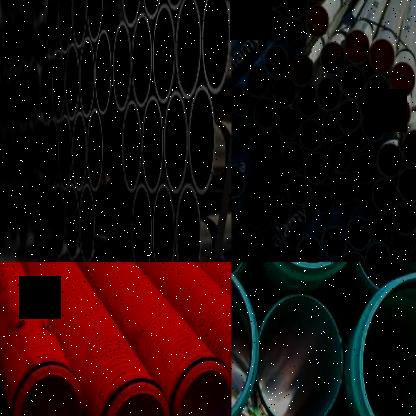pipe: (258, 292, 342, 416), (358, 272, 416, 416), (13, 367, 83, 416), (174, 363, 232, 416), (188, 84, 215, 194), (174, 0, 201, 99), (201, 0, 229, 94), (164, 90, 188, 193), (152, 2, 175, 103), (102, 383, 169, 416), (175, 182, 201, 262), (142, 96, 163, 193), (131, 12, 152, 108), (121, 99, 142, 194), (112, 20, 131, 113), (152, 183, 174, 262), (130, 183, 152, 262), (95, 29, 111, 115), (87, 108, 103, 191), (78, 184, 94, 262), (79, 36, 94, 118), (72, 111, 87, 191), (65, 43, 79, 121), (65, 184, 79, 261), (51, 48, 65, 123), (58, 114, 71, 191), (376, 143, 404, 178), (389, 62, 416, 98), (369, 39, 396, 74), (344, 30, 370, 65), (346, 216, 372, 251), (52, 184, 64, 259), (384, 97, 411, 130), (320, 42, 346, 76), (361, 108, 387, 142), (321, 226, 347, 260), (242, 195, 268, 229), (304, 4, 330, 38), (316, 77, 341, 112), (46, 119, 58, 191), (365, 76, 391, 109), (372, 179, 398, 212), (341, 66, 366, 100), (336, 99, 361, 133), (260, 9, 285, 42), (266, 196, 291, 229), (40, 58, 52, 126), (392, 201, 416, 235), (289, 54, 314, 86), (253, 97, 278, 129), (299, 119, 324, 151), (327, 142, 352, 174), (280, 142, 305, 174), (304, 152, 329, 184), (284, 19, 307, 53), (287, 174, 312, 205), (296, 85, 320, 117), (236, 117, 260, 149), (265, 45, 288, 78), (246, 66, 270, 97), (277, 108, 301, 139), (354, 154, 378, 185), (311, 183, 335, 214), (259, 128, 282, 160), (71, 0, 86, 49), (390, 225, 416, 253), (273, 77, 297, 107), (334, 174, 358, 204), (58, 0, 71, 54), (396, 166, 416, 201), (322, 111, 345, 141), (240, 226, 263, 256), (263, 227, 286, 257), (46, 0, 58, 57), (87, 0, 103, 42), (231, 85, 252, 117), (297, 236, 322, 262), (285, 219, 305, 249), (239, 0, 263, 25), (121, 0, 142, 28), (401, 129, 416, 165), (365, 242, 391, 262), (231, 165, 246, 198), (346, 132, 371, 151), (141, 0, 163, 19), (284, 0, 307, 18), (280, 248, 298, 262), (341, 252, 366, 262), (232, 197, 240, 228), (262, 0, 286, 9), (232, 237, 240, 262), (385, 254, 410, 262), (235, 256, 258, 262), (410, 244, 416, 262), (306, 0, 330, 4)
